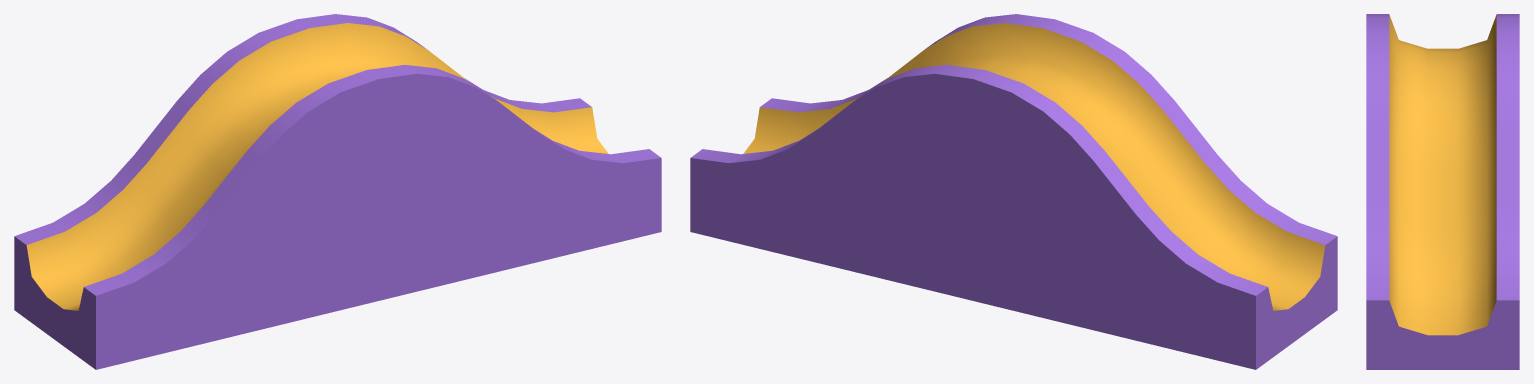
File: bump-solid-c-col.glb
The picture shows the model from 3 angles, left to right: view 1: azimuth 30°, elevation 25°; view 2: azimuth 150°, elevation 25°; view 3: azimuth 270°, elevation 25°; orthographic projection. The views are drawn at different scales.
Parts seen in each view (by area): view 1: bump-solid-c-col; view 2: bump-solid-c-col; view 3: bump-solid-c-col.
Part boxes in pixels (x1,y1,x2,y2): bump-solid-c-col: (14, 14, 661, 369); bump-solid-c-col: (690, 14, 1337, 369); bump-solid-c-col: (1366, 14, 1519, 369).
Size of the model in its own units: 4 by 1.5 by 1.
Materials: 1 (1 with a texture image).
